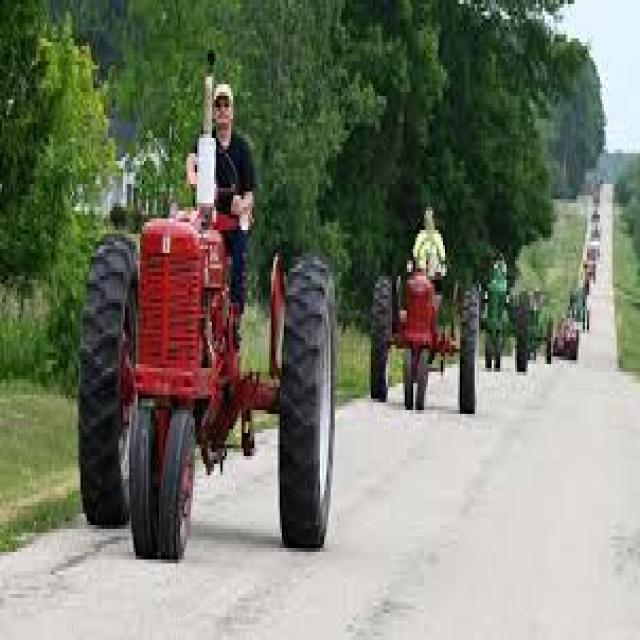person: (186, 84, 252, 310), (415, 207, 443, 280)
tractor: (78, 207, 333, 556), (371, 268, 477, 414), (485, 261, 536, 372), (547, 318, 576, 360)
